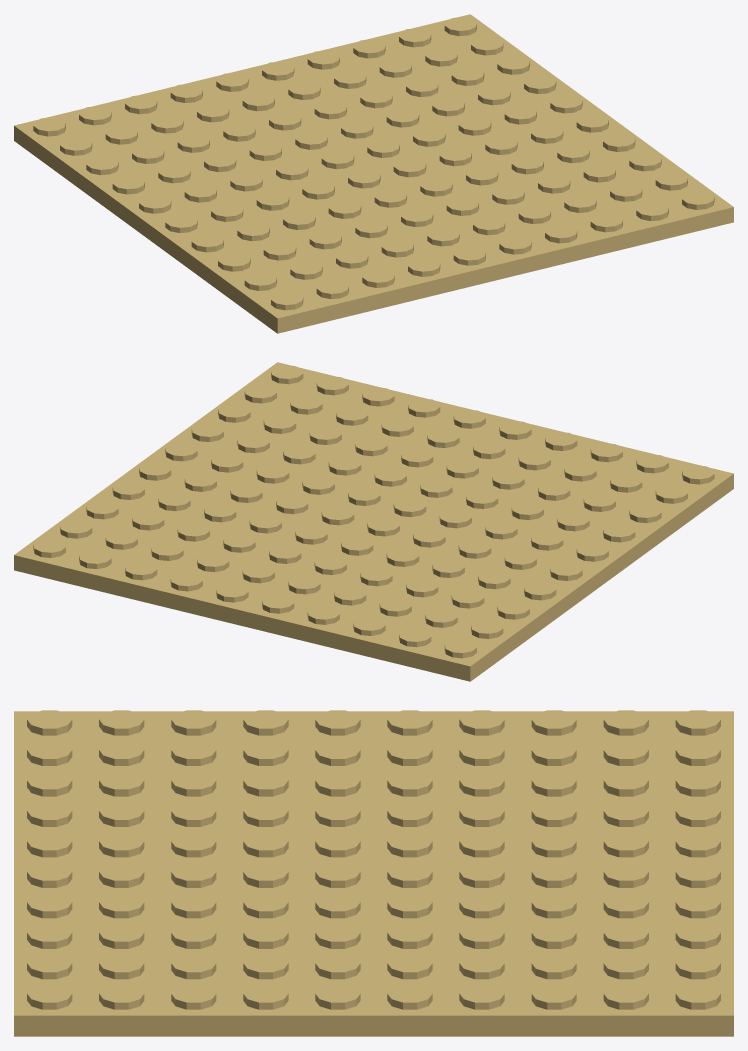
The model's file is Ground_10x10.fbx.
3 renders of one model, top to bottom at view 1: azimuth 30°, elevation 25°; view 2: azimuth 150°, elevation 25°; view 3: azimuth 270°, elevation 25°, orthographic. The views are drawn at different scales.
Parts seen in each view (by area): view 1: Part.008; view 2: Part.008; view 3: Part.008.
Boxes of the visible parts, x1,y1,x2,y2 form: Part.008: (14, 14, 733, 333); Part.008: (14, 362, 733, 681); Part.008: (14, 710, 733, 1036).
Size of the model in its own units: 7992 by 343 by 7992.
